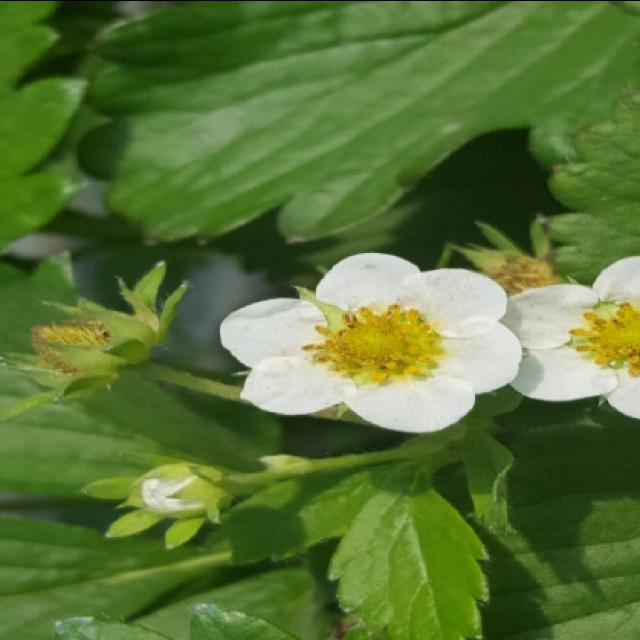Blossom Blight: (298, 300, 449, 391)
